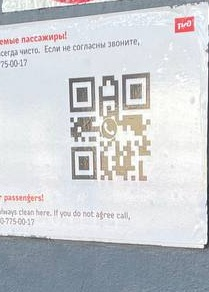2d: (68, 70, 152, 182)
